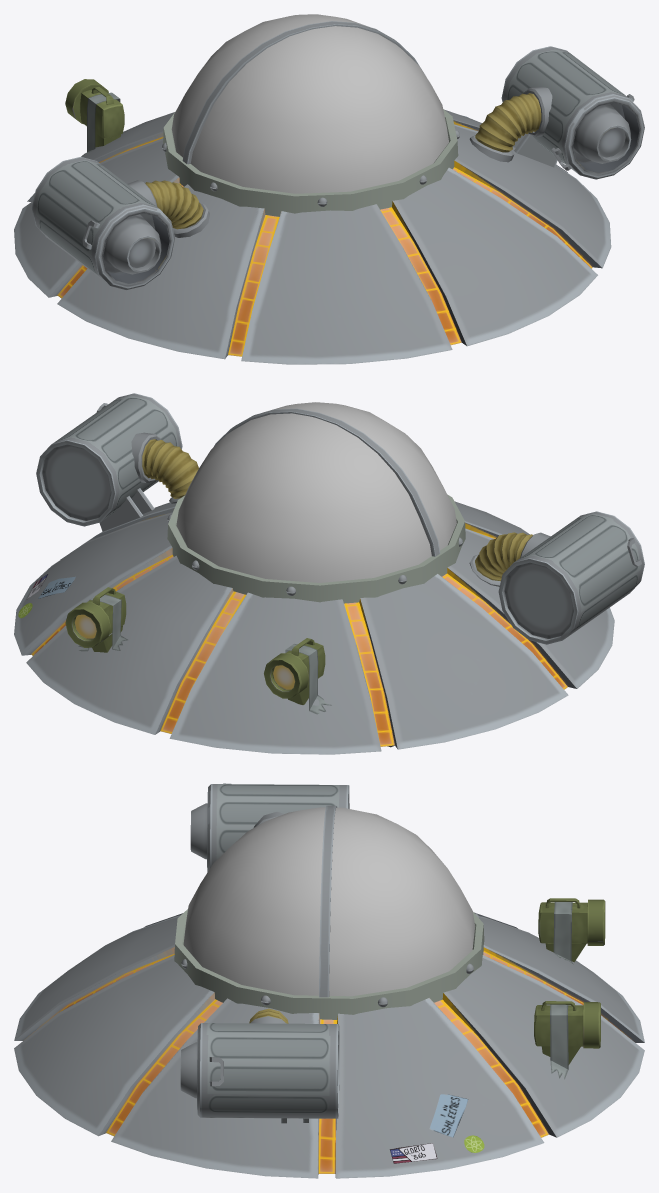
File: rickmobil.obj
3 renders of one model, top to bottom at view 1: azimuth 30°, elevation 25°; view 2: azimuth 150°, elevation 25°; view 3: azimuth 270°, elevation 25°, orthographic. The views are drawn at different scales.
Visible parts, largest first — view 1: base, glass_alfa_diffuse; view 2: base, glass_alfa_diffuse; view 3: base, glass_alfa_diffuse.
Part boxes in pixels (left/top/right/bottom): base: left=14, top=21, right=644, bottom=364; glass_alfa_diffuse: left=171, top=14, right=448, bottom=193; base: left=14, top=393, right=644, bottom=754; glass_alfa_diffuse: left=176, top=402, right=456, bottom=582; base: left=14, top=783, right=644, bottom=1178; glass_alfa_diffuse: left=183, top=807, right=475, bottom=996.
Bounding box in the file's own units: 4693 × 2011 × 4419.
2 materials, 2 textured.
